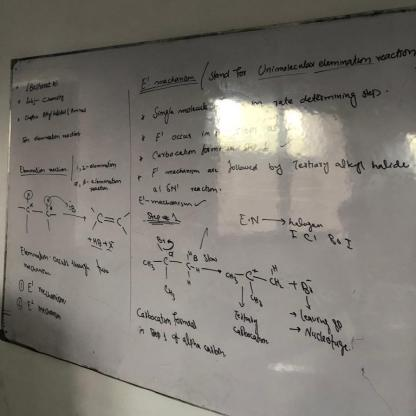Handwritten text: (150, 81, 387, 126), (162, 152, 413, 180), (13, 243, 116, 281), (168, 121, 282, 143), (147, 139, 241, 162), (131, 304, 204, 332)
Whiteboard: (0, 6, 416, 416)
